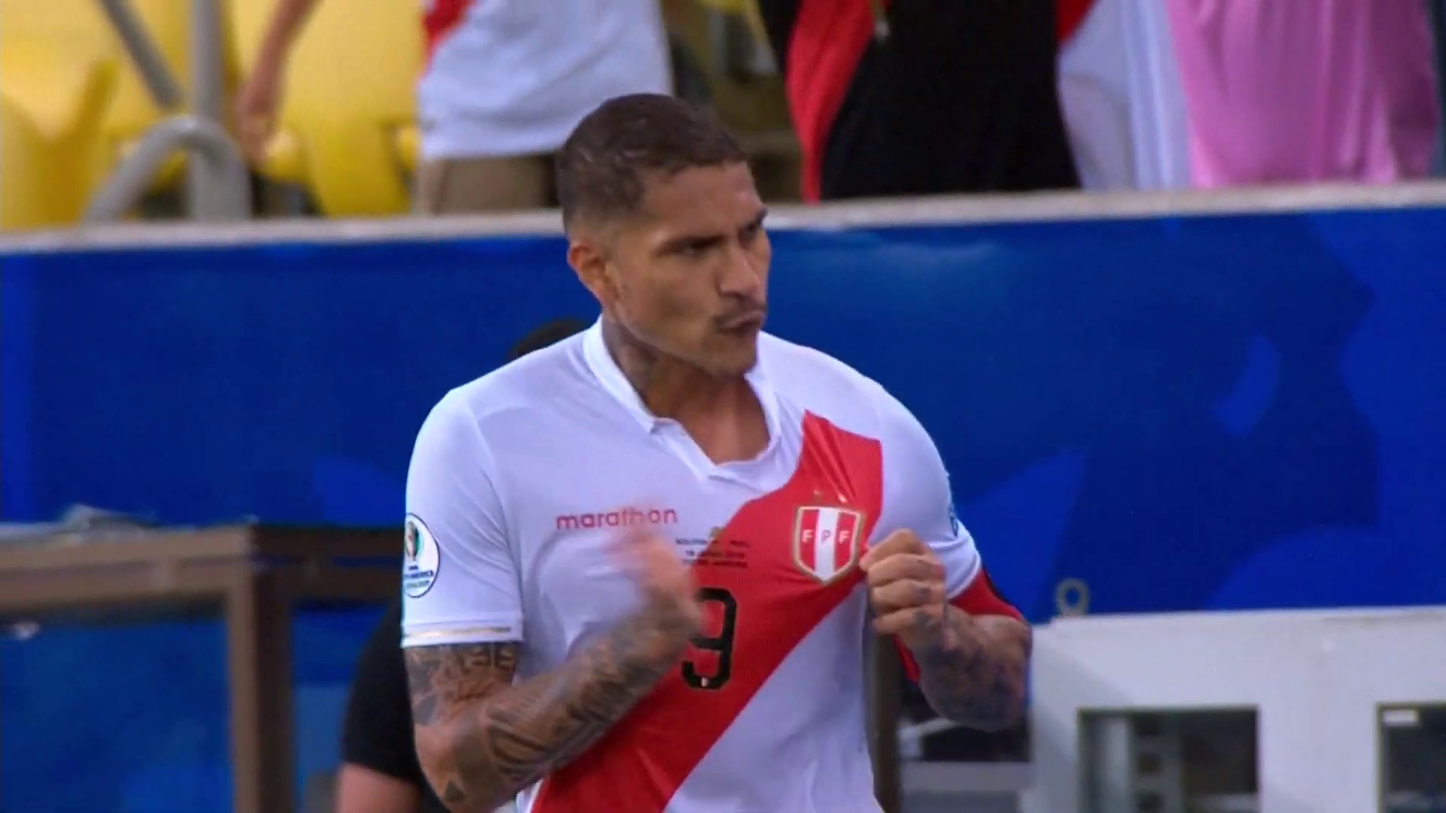player: (399, 92, 1041, 809)
